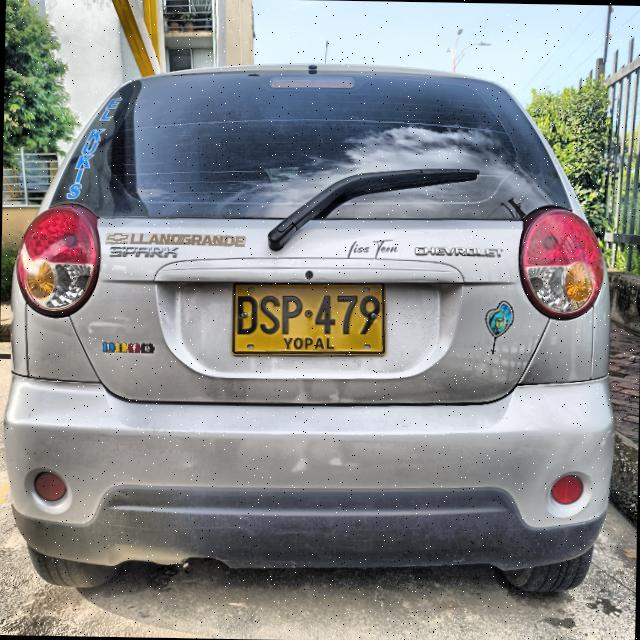plate: (231, 282, 385, 354)
